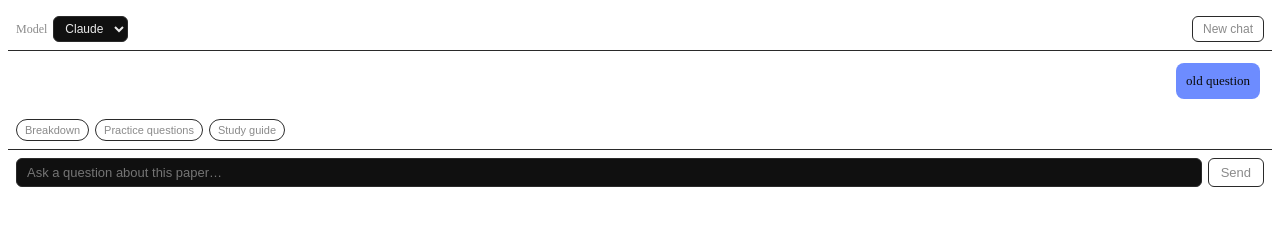
Scenario: AskPanel › starts a fresh session on "New chat" and clears the thread
Check: the text "old question" is shown, box 1176,63 -> 1260,98
Click the button "New chat" at x=1228, y=29, box 1192,16 -> 1264,42
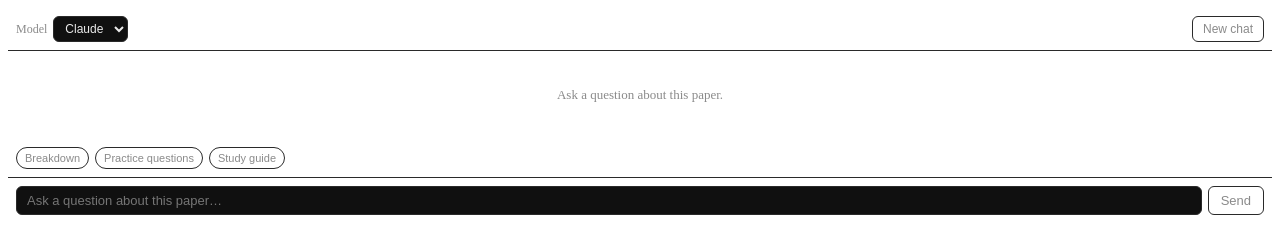
Check: the text "old question" is gone
Check: the text "Ask a question about this paper." is shown, box 557,87 -> 723,102
